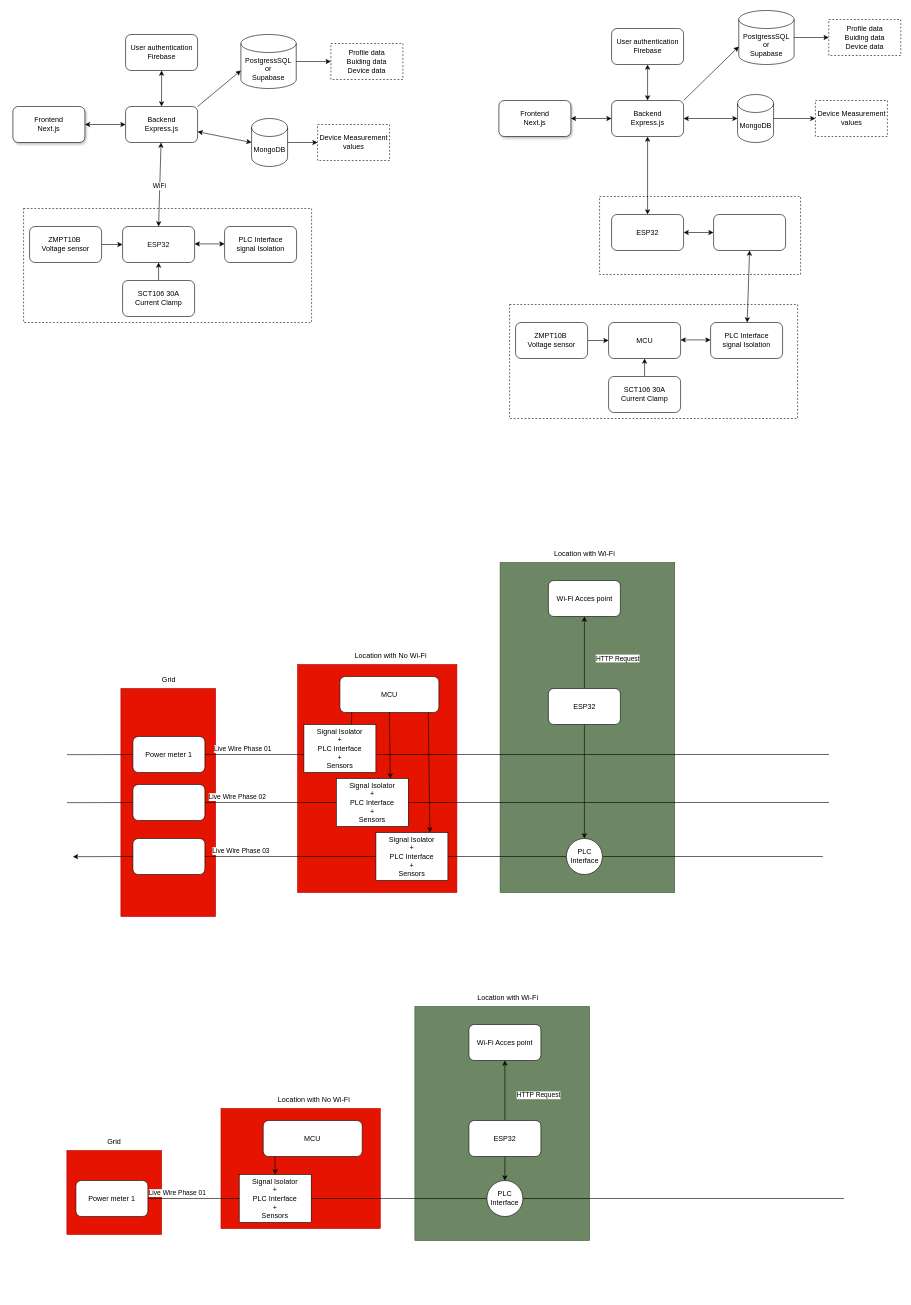
Image size: 911x1305. Some labels were removed from this diagram. Each missing label, with the centre of its shape:
"PLC Interface ( Power Line Communication )" goes at pixel 749 232.
"Power meter 2" goes at pixel 168 802.
"Power meter 3" goes at pixel 168 856.
